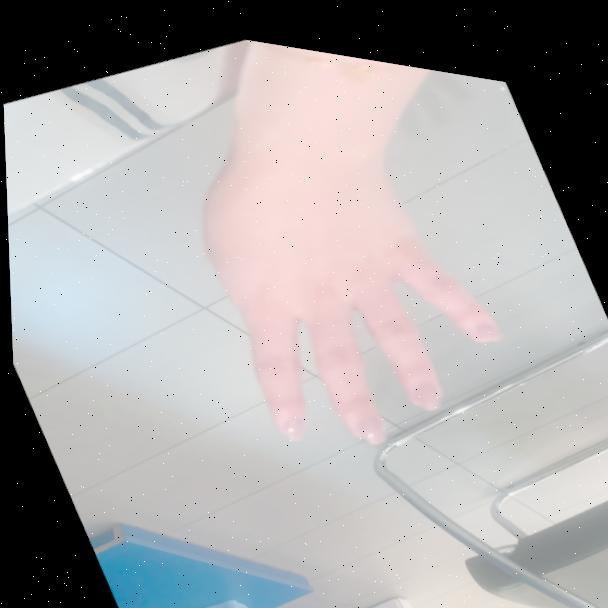four: (154, 74, 538, 499)
